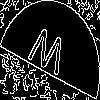W: (25, 25, 68, 85)
